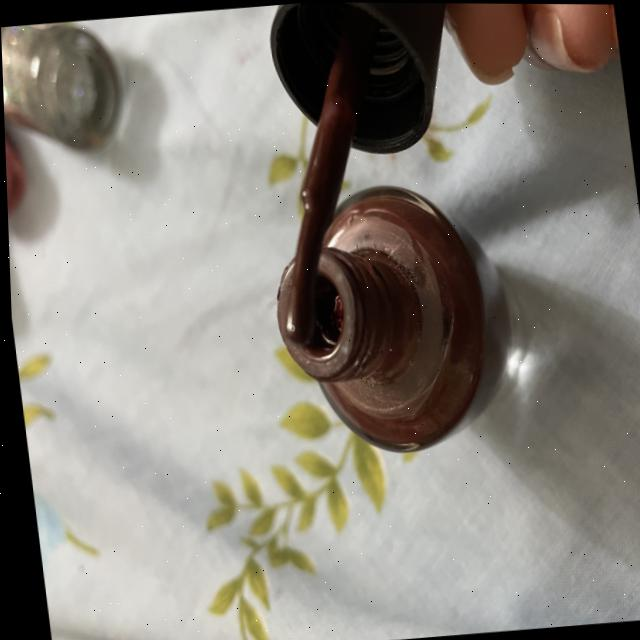nail polish: (207, 1, 504, 358), (250, 166, 549, 476)
